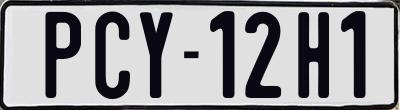1: (209, 9, 238, 102), (341, 9, 369, 100)
2: (242, 12, 283, 100)
C: (95, 10, 130, 102)
H: (297, 9, 328, 95)
P: (44, 12, 84, 98)
Y: (139, 9, 177, 95)
